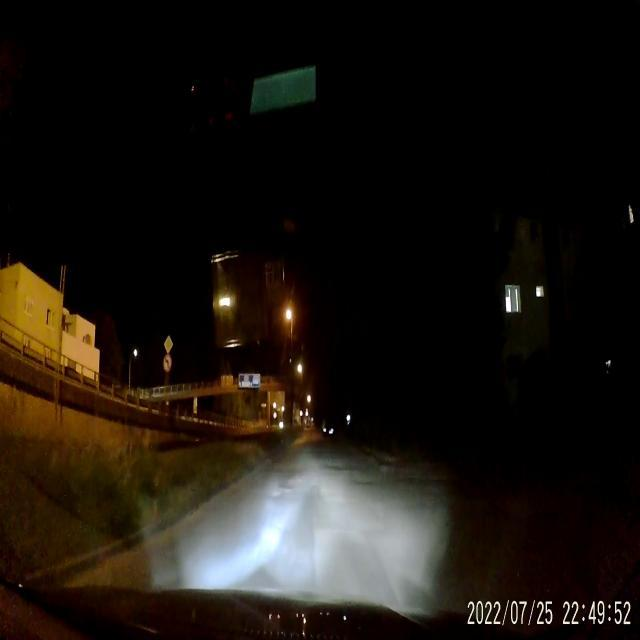Pothole: (264, 478, 298, 506), (352, 471, 379, 495), (322, 460, 360, 473)
